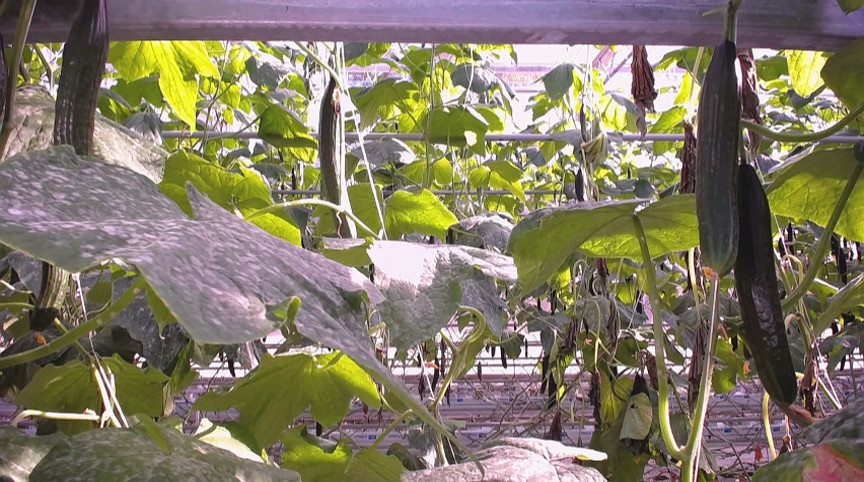cucumber: (733, 163, 799, 405), (700, 43, 743, 281), (52, 1, 109, 155), (318, 76, 358, 241), (32, 258, 70, 332)
